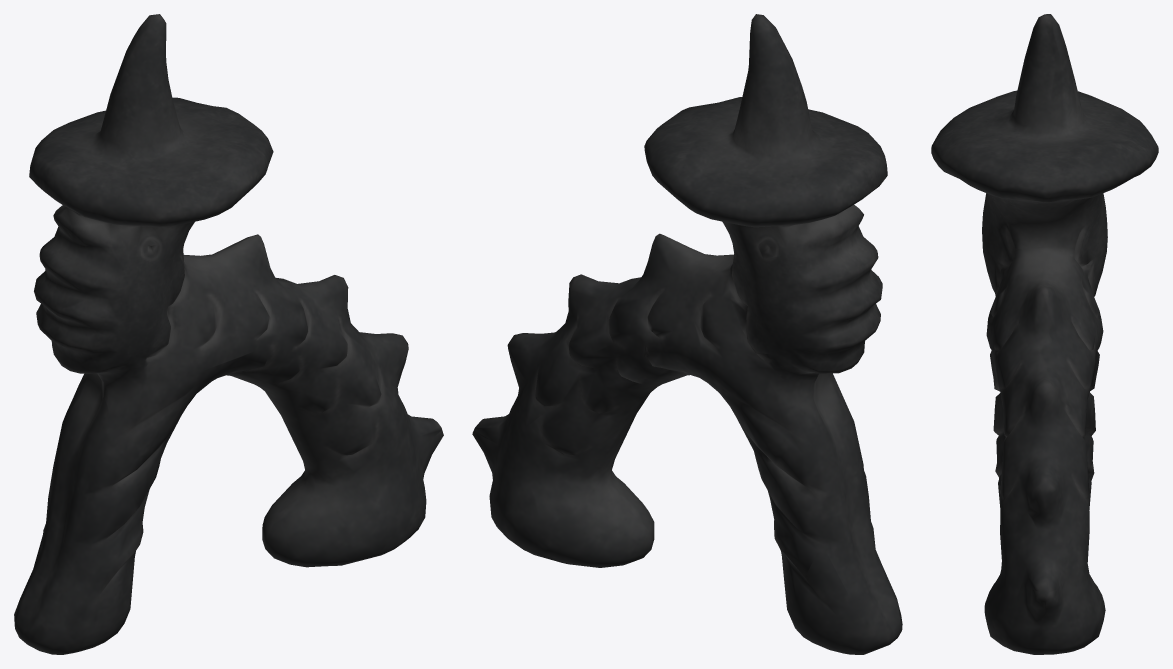
File: SM_RoofOrnament02C.fbx
3 views of the same model, side by side, from view 1: azimuth 30°, elevation 25°; view 2: azimuth 150°, elevation 25°; view 3: azimuth 270°, elevation 25° (orthographic). The views are drawn at different scales.
Parts seen in each view (by area): view 1: SM_RoofOrnament02C; view 2: SM_RoofOrnament02C; view 3: SM_RoofOrnament02C.
Part boxes in pixels (x1,y1,x2,y2): SM_RoofOrnament02C: [14, 14, 443, 654]; SM_RoofOrnament02C: [472, 14, 902, 654]; SM_RoofOrnament02C: [931, 14, 1158, 654].
Bounding box in the file's own units: 32.31 × 16.19 × 44.48.
